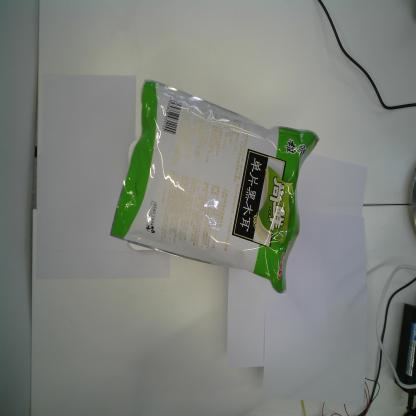Dried Food: (108, 76, 323, 296)
